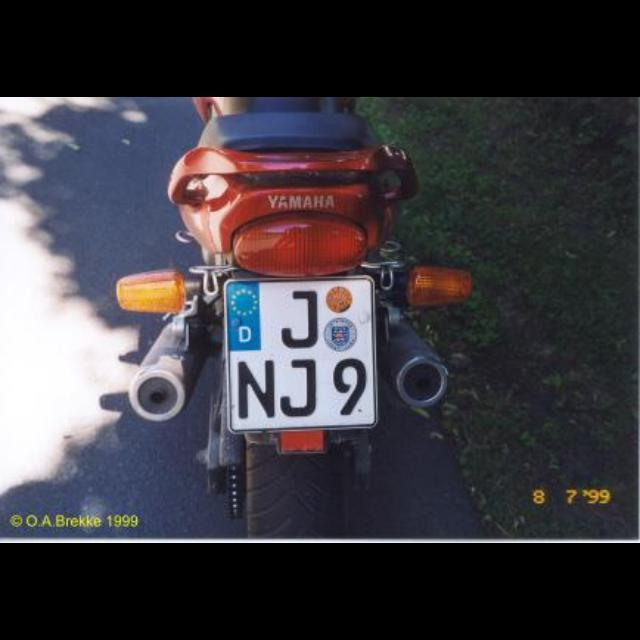license-plates: (226, 277, 376, 432)
